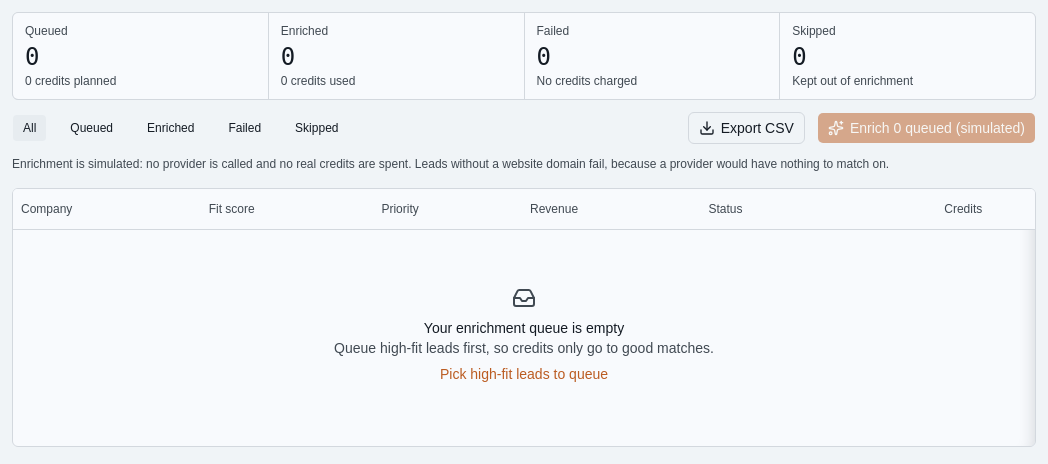
QueueView › explains an empty status tab and links back to all items
This screenshot has width=1048, height=464.
Expected: the text "Your enrichment queue is empty" is shown, [424,320,624,336]
Click the tab with test id "queue-filter-skipped": point(317, 128) [284,114,350,142]
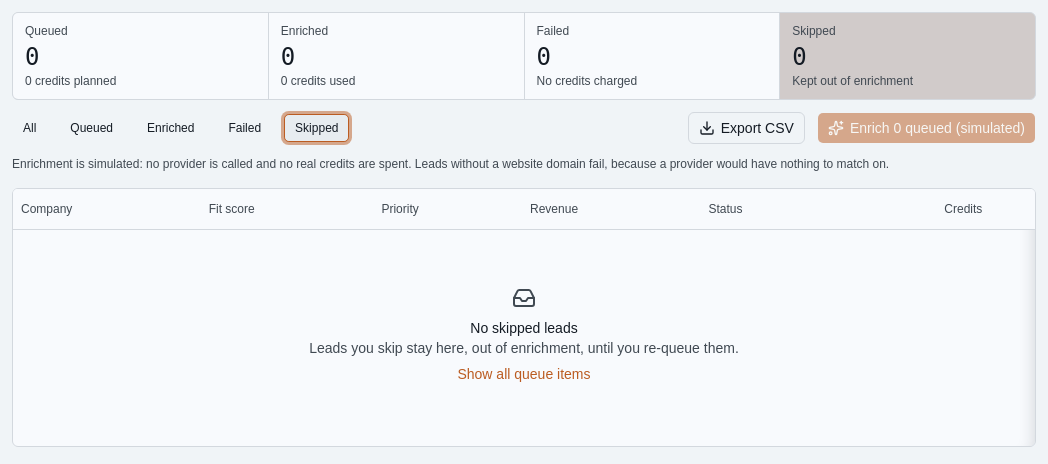
Now the text "No skipped leads" is shown, box [470,320,578,336]
Click the button "Show all queue items": point(524, 374) [446,358,602,390]
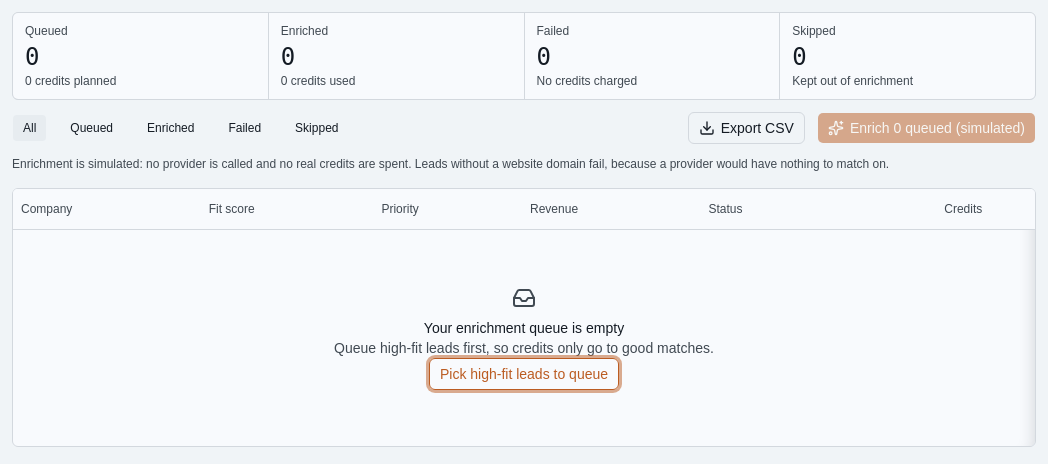
Now the text "Your enrichment queue is empty" is shown, box [424,320,624,336]
